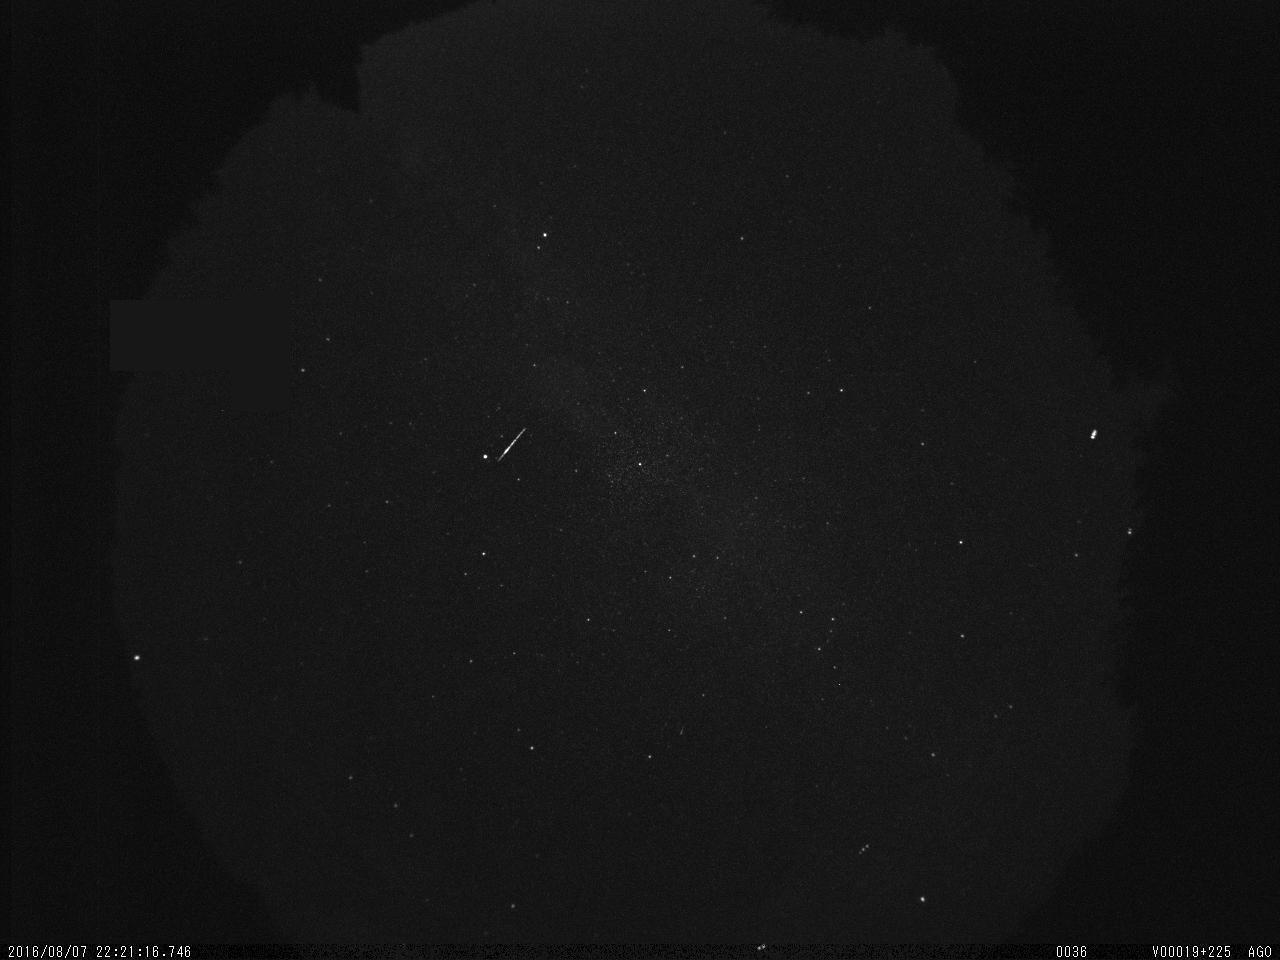Meteor: (496, 420, 533, 466)
